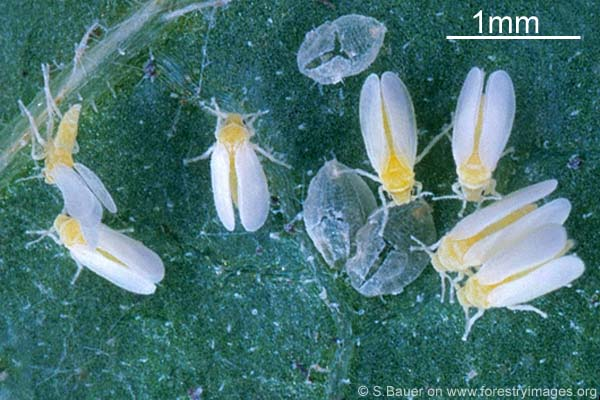Tobacco Whitefly: (40, 217, 201, 306), (459, 221, 591, 327), (195, 98, 272, 240), (354, 72, 427, 212), (432, 202, 559, 251), (456, 64, 502, 198)
